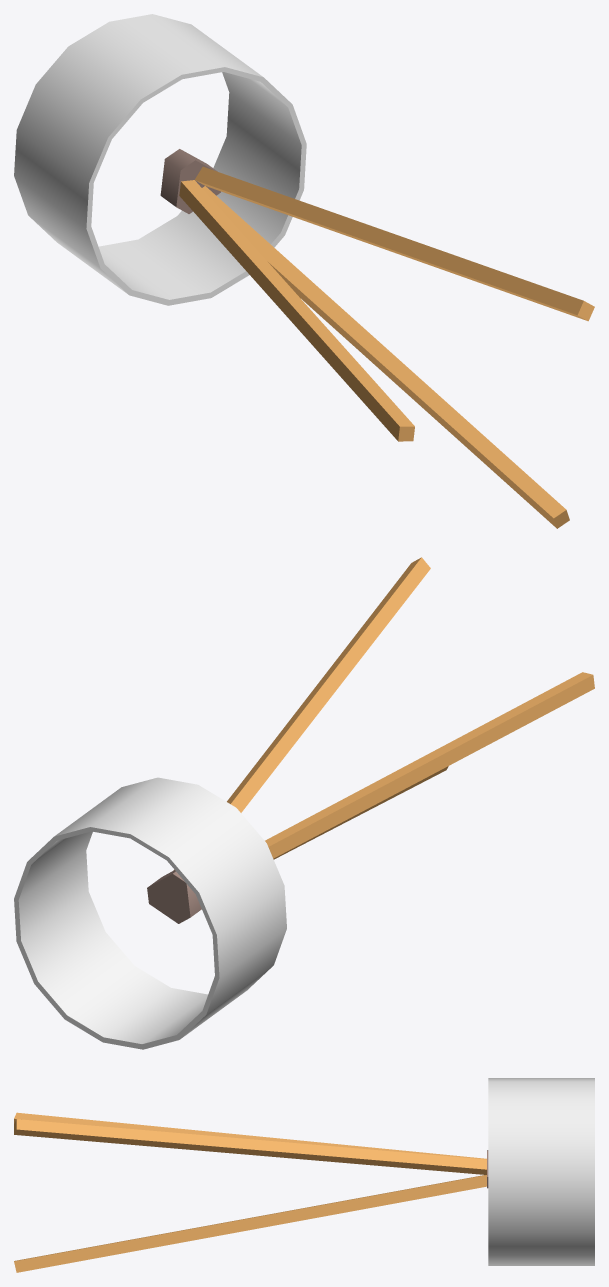
Rendered from floor-lamp.glb.
3 renders of one model, top to bottom at view 1: azimuth 30°, elevation 25°; view 2: azimuth 150°, elevation 25°; view 3: azimuth 270°, elevation 25°, orthographic. The views are drawn at different scales.
Visible parts, largest first — view 1: lamp_floor_002; view 2: lamp_floor_002; view 3: lamp_floor_002.
Boxes of the visible parts, x1,y1,x2,y2 form: lamp_floor_002: [14, 14, 594, 528]; lamp_floor_002: [14, 557, 594, 1049]; lamp_floor_002: [14, 1078, 594, 1272].
Size of the model in its own units: 0.576 by 0.558 by 1.72.
Materials: 1 (1 with a texture image).
